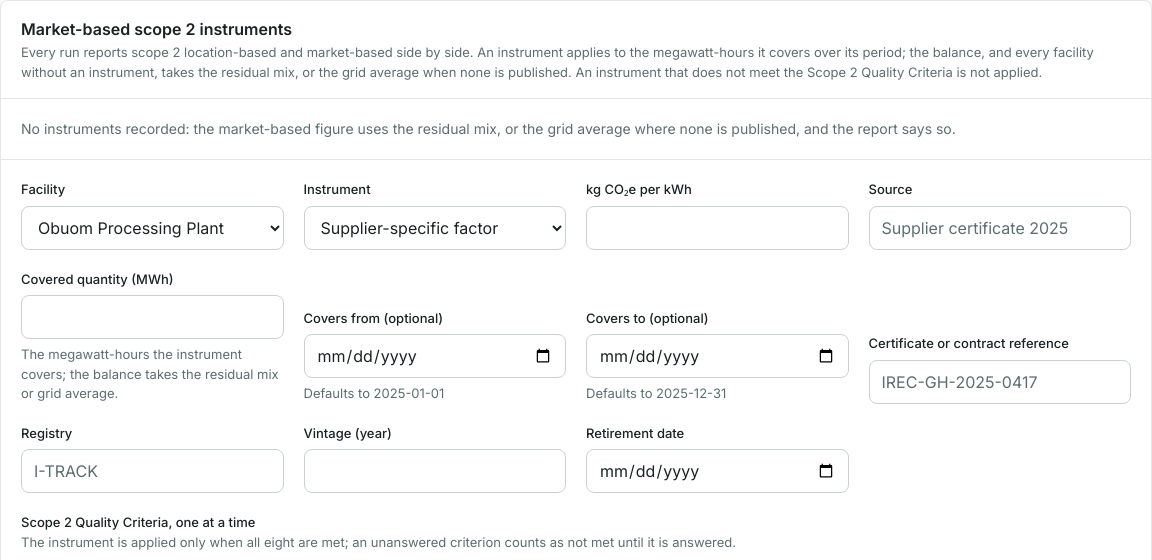
Test case: a negative factor gets an inline message and sends nothing (ticket T-24)
This screenshot has width=1152, height=560.
Check: the text "No instruments recorded: the market-based figure" is shown, box x1=21 y1=120 x2=956 y2=137
In the number field labelled "kg CO₂e per kWh": (717, 228) x1=586 y1=206 x2=848 y2=250, type "-0.1"
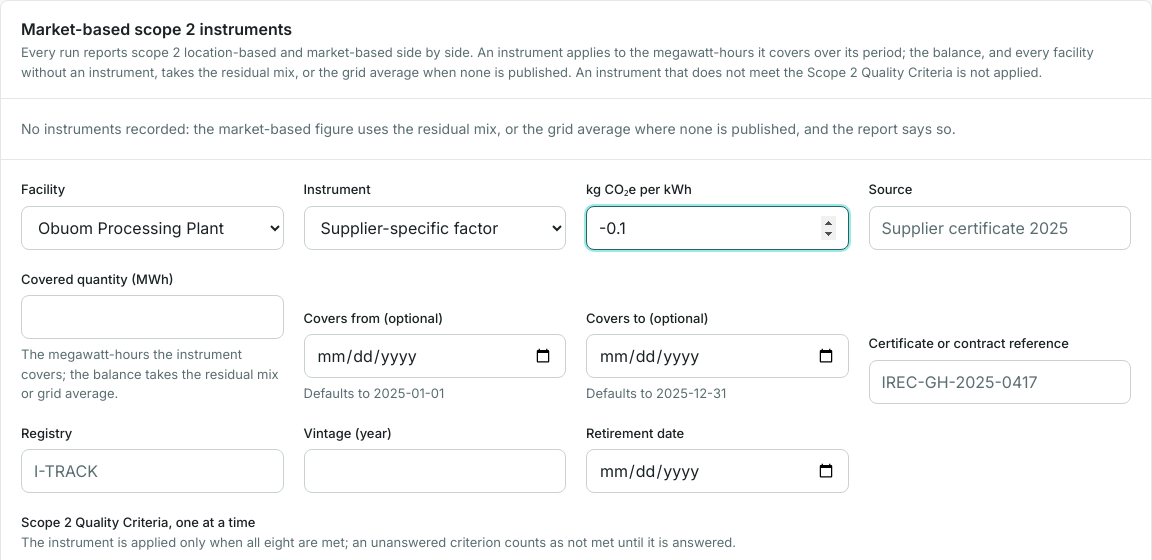
In the field labelled "Source": (1000, 228) x1=868 y1=206 x2=1131 y2=250, type "Obuom solar PPA 2025"
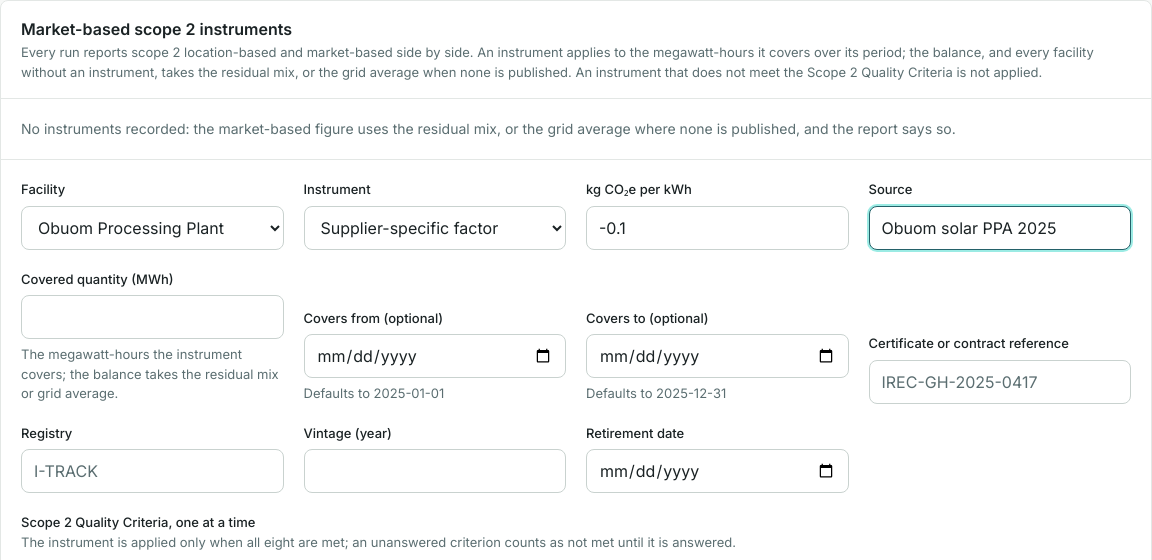
In the number field labelled "Covered quantity (MWh)": (152, 317) x1=21 y1=295 x2=284 y2=339, type "20000"
(page scrolled)
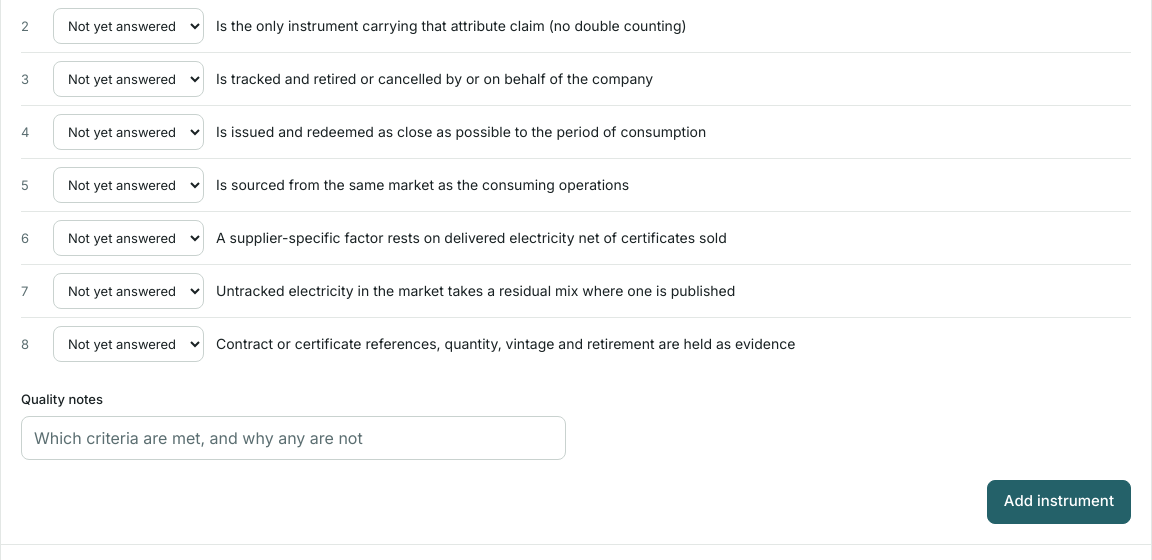
Click the button "Add instrument": click(1059, 502) x1=987 y1=480 x2=1131 y2=524
(page scrolled)
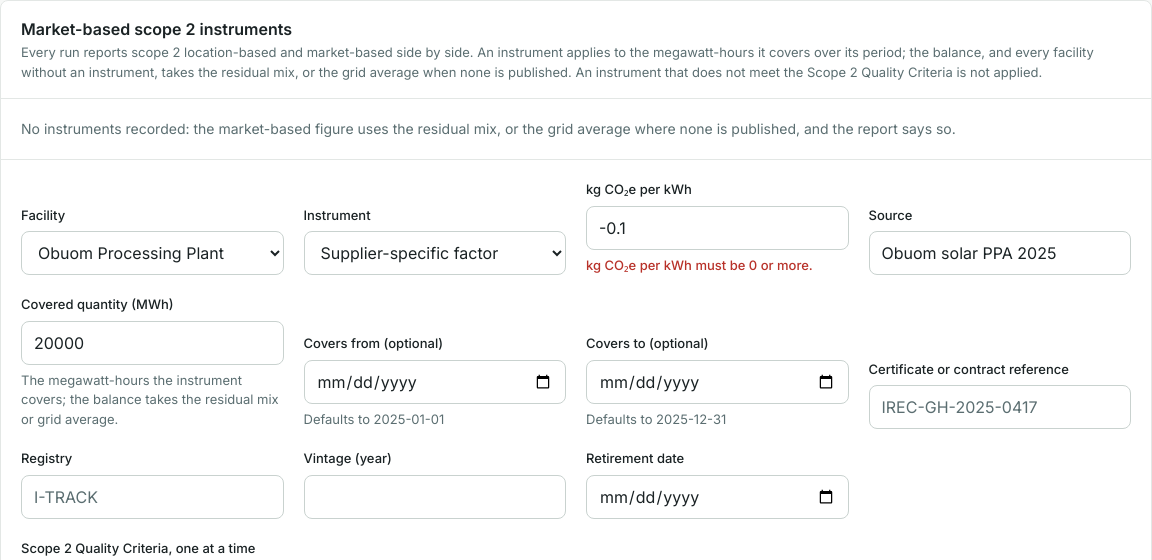
Check: the text "kg CO₂e per kWh must be 0 or more." is shown, box x1=586 y1=256 x2=848 y2=275
